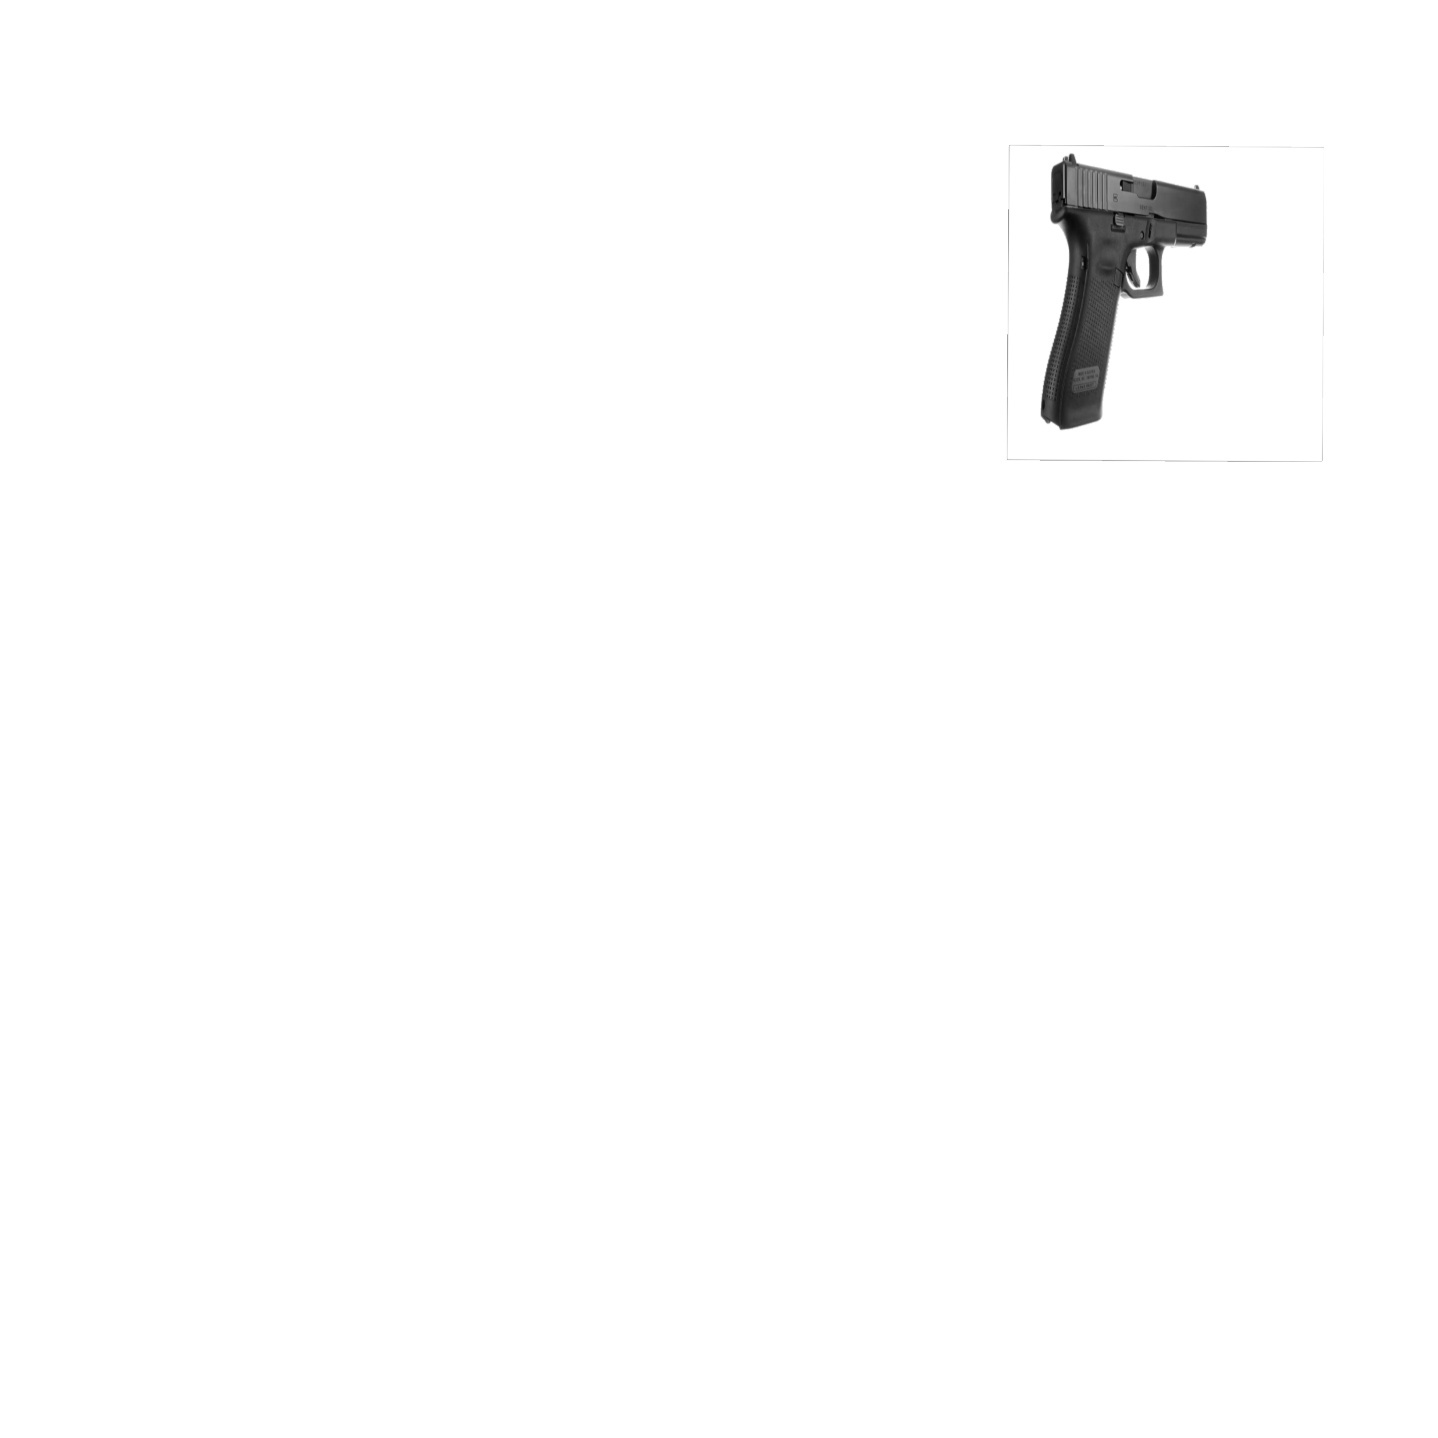gun: (1039, 153, 1208, 432)
